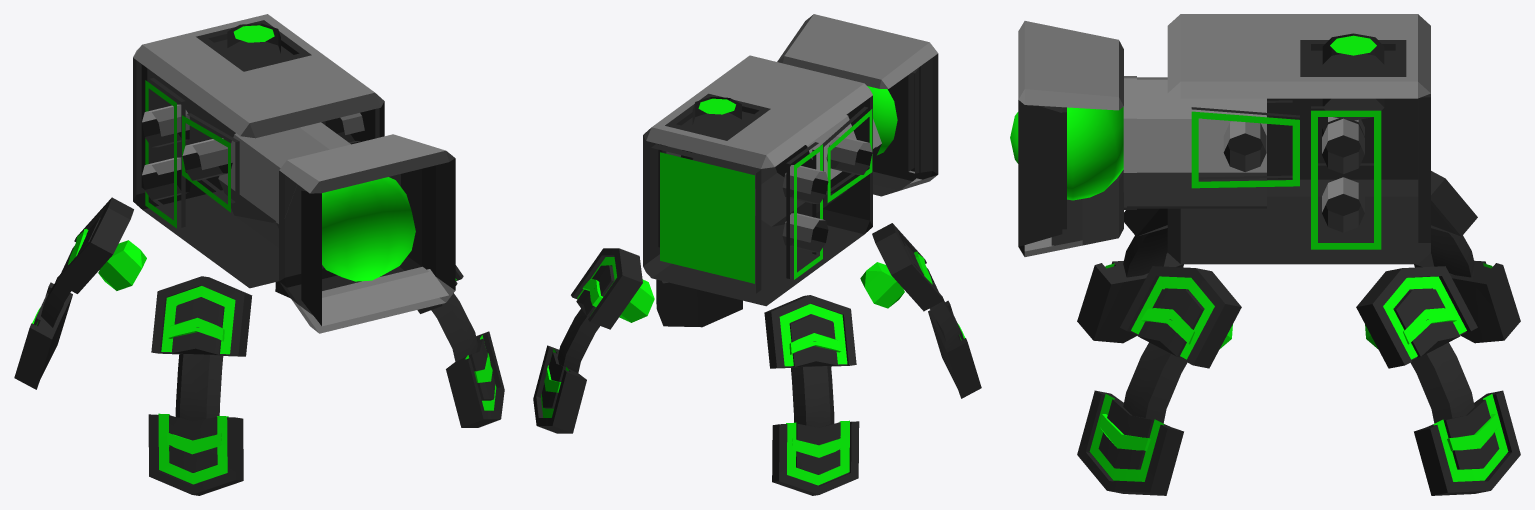
The model's file is char_camera.fbx.
3 renders of one model, left to right at view 1: azimuth 30°, elevation 25°; view 2: azimuth 150°, elevation 25°; view 3: azimuth 270°, elevation 25°, orthographic. The views are drawn at different scales.
Visible parts, largest first — view 1: Camera_body, leg1, leg3, leg2; view 2: Camera_body, leg3, leg4, leg1, leg2; view 3: Camera_body, leg2, leg4, leg3, leg1.
Part boxes in pixels (left/top/right/bottom): Camera_body: left=133, top=14, right=455, bottom=333; leg1: left=148, top=276, right=252, bottom=495; leg3: left=14, top=197, right=146, bottom=389; leg2: left=417, top=265, right=504, bottom=427; Camera_body: left=643, top=14, right=938, bottom=306; leg3: left=764, top=295, right=859, bottom=495; leg4: left=533, top=248, right=654, bottom=433; leg1: left=860, top=223, right=981, bottom=398; leg2: left=656, top=279, right=742, bottom=327; Camera_body: left=1010, top=14, right=1430, bottom=264; leg2: left=1077, top=266, right=1241, bottom=495; leg4: left=1356, top=266, right=1520, bottom=495; leg3: left=1414, top=171, right=1520, bottom=343; leg1: left=1077, top=208, right=1183, bottom=343.
Size of the model in its own units: 327 by 368 by 305.
